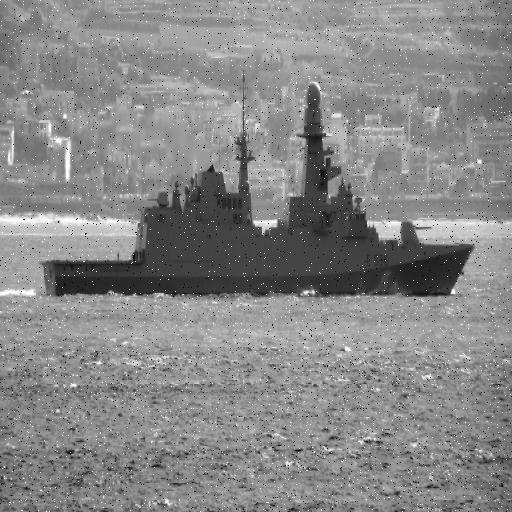Fragata: (41, 62, 478, 303)
